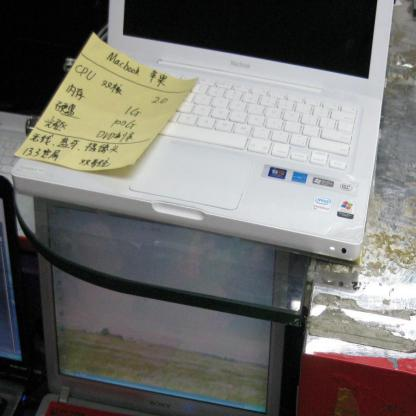board: (10, 0, 395, 263), (32, 194, 290, 416), (0, 175, 44, 415)
